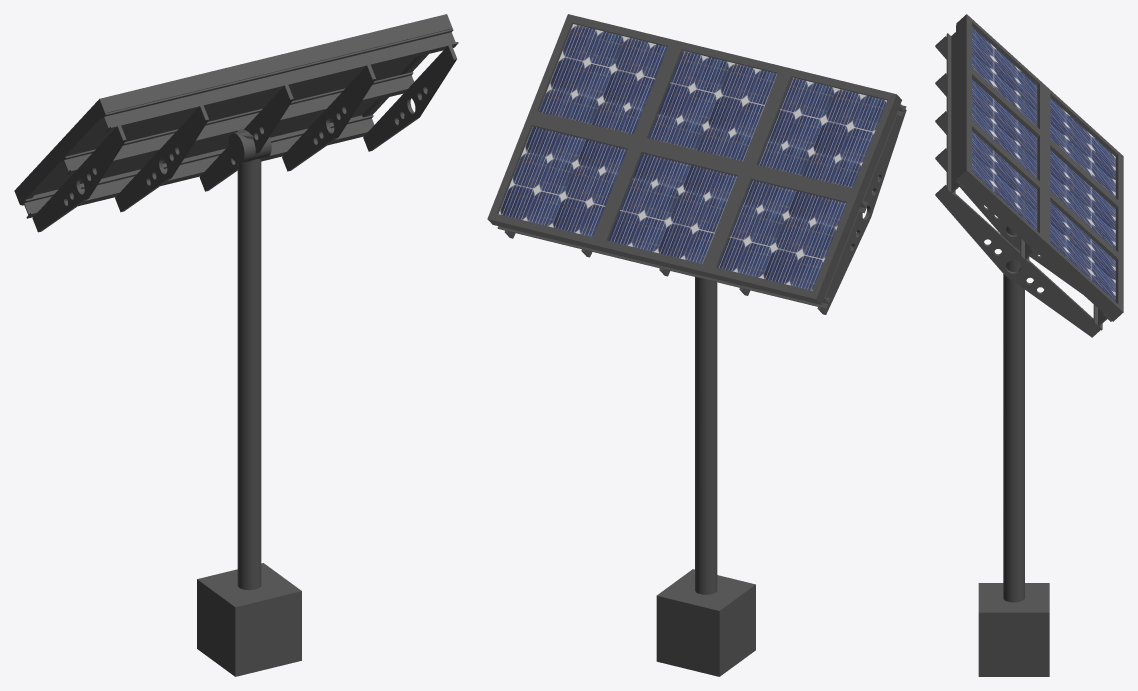
The model's file is Solar Panel.fbx.
The picture shows the model from 3 angles, left to right: view 1: azimuth 30°, elevation 25°; view 2: azimuth 150°, elevation 25°; view 3: azimuth 270°, elevation 25°; orthographic projection. The views are drawn at different scales.
Parts seen in each view (by area): view 1: Panel, stand, boxx; view 2: Panel, boxx, stand; view 3: Panel, stand, boxx.
Part boxes in pixels (x1,y1,x2,y2): Panel: (14,14,458,232); stand: (237,126,261,590); boxx: (197,563,301,676); Panel: (487,14,906,314); boxx: (656,569,755,676); stand: (695,277,717,594); Panel: (935,14,1123,337); stand: (1003,226,1024,602); boxx: (978,583,1049,676).
Size of the model in its own units: 501 by 849 by 255.
Materials: 2 (1 with a texture image).
